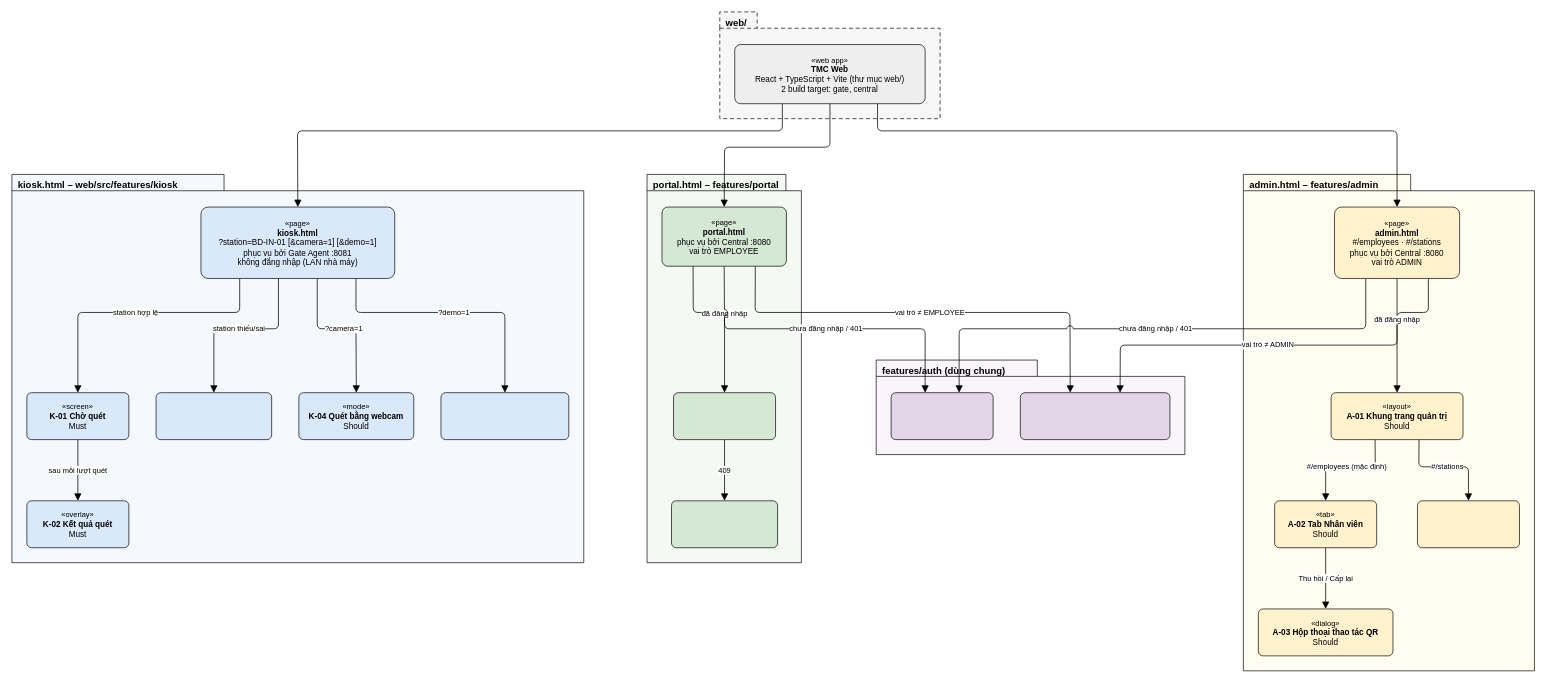
The diagram is 1546 pixels wide and 683 high, and some of its shapes have lost their labels. Each missing label, with the centre of its shape:
"«panel» K-05 Bảng điều khiển demo Could" goes at pixel 504 416.
"«screen» AU-01 Đăng nhập Must" goes at pixel 941 416.
"«screen» AU-02 Không có quyền truy cập Must" goes at pixel 1095 416.
"«screen» K-03 Lỗi cấu hình trạm Must" goes at pixel 213 416.
"«screen» P-01 Mã QR cá nhân Must" goes at pixel 724 416.
"«state» P-02 Không có mã QR Must" goes at pixel 724 524.
"«tab» A-04 Tab Trạm Should" goes at pixel 1468 524.
